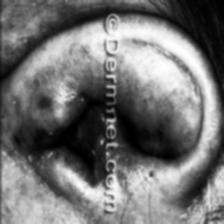Toxin: (20, 124, 56, 161)
